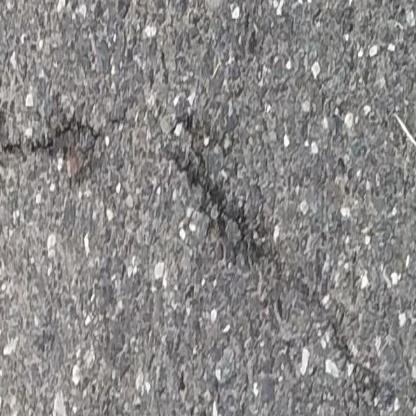Cracks: (169, 110, 251, 246), (0, 115, 104, 157)
